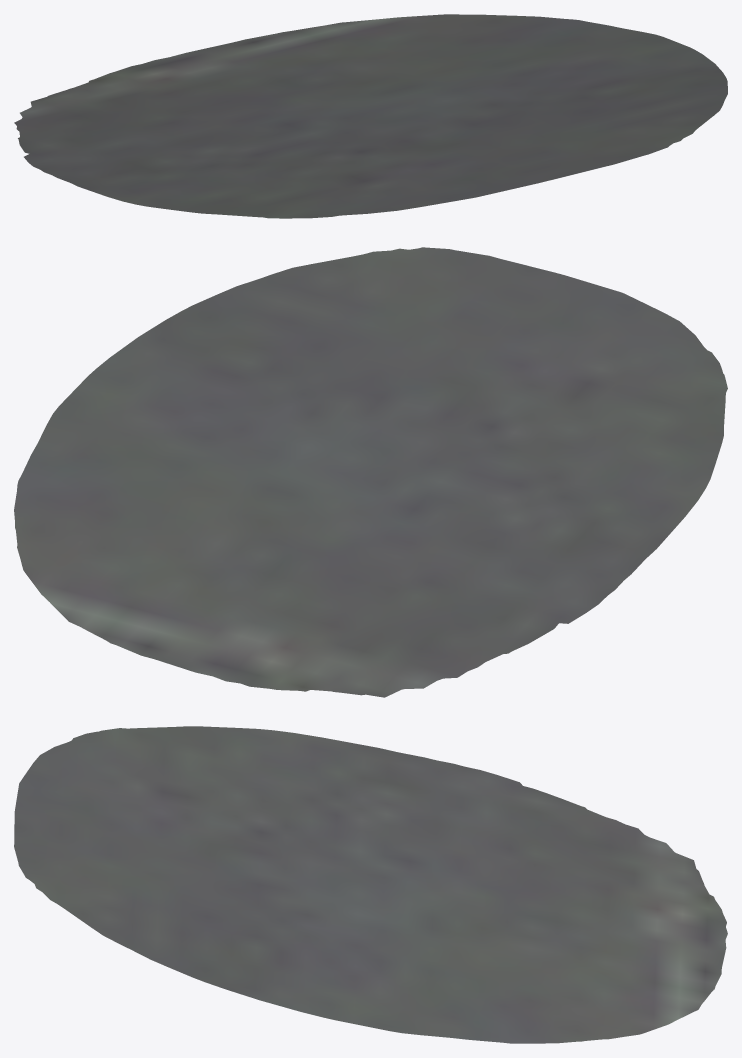
File: Stump_RightLeg.gltf
The picture shows the model from 3 angles, top to bottom: view 1: azimuth 30°, elevation 25°; view 2: azimuth 150°, elevation 25°; view 3: azimuth 270°, elevation 25°; orthographic projection.
Parts seen in each view (by area): view 1: Stump_RightLeg; view 2: Stump_RightLeg; view 3: Stump_RightLeg.
Part boxes in pixels (x1,y1,x2,y2): Stump_RightLeg: (14,14,727,218); Stump_RightLeg: (14,247,727,697); Stump_RightLeg: (14,726,727,1043).
Size of the model in its own units: 0.0926 by 0.0203 by 0.0981.
Materials: 1 (1 with a texture image).
